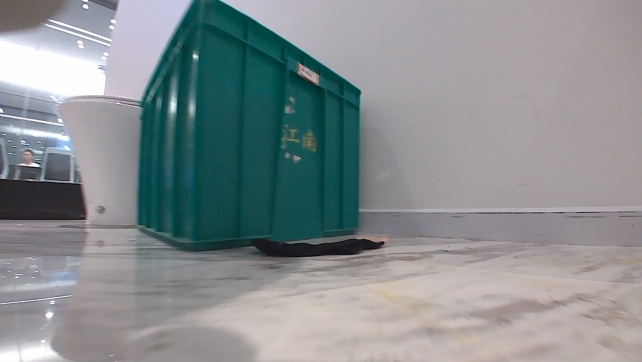socks: (249, 231, 390, 259)
toilet: (55, 92, 146, 227)
